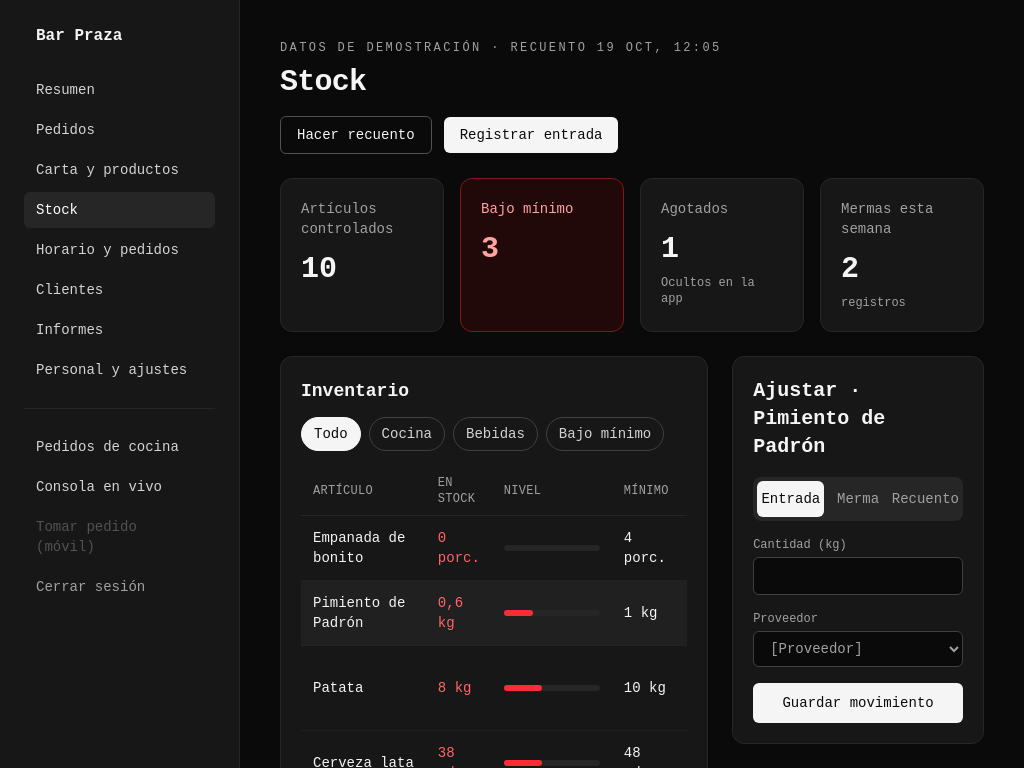
StockPage › rejects an empty or invalid amount
Click the button "Guardar movimiento".
click(858, 703)  # box [753, 683, 963, 723]
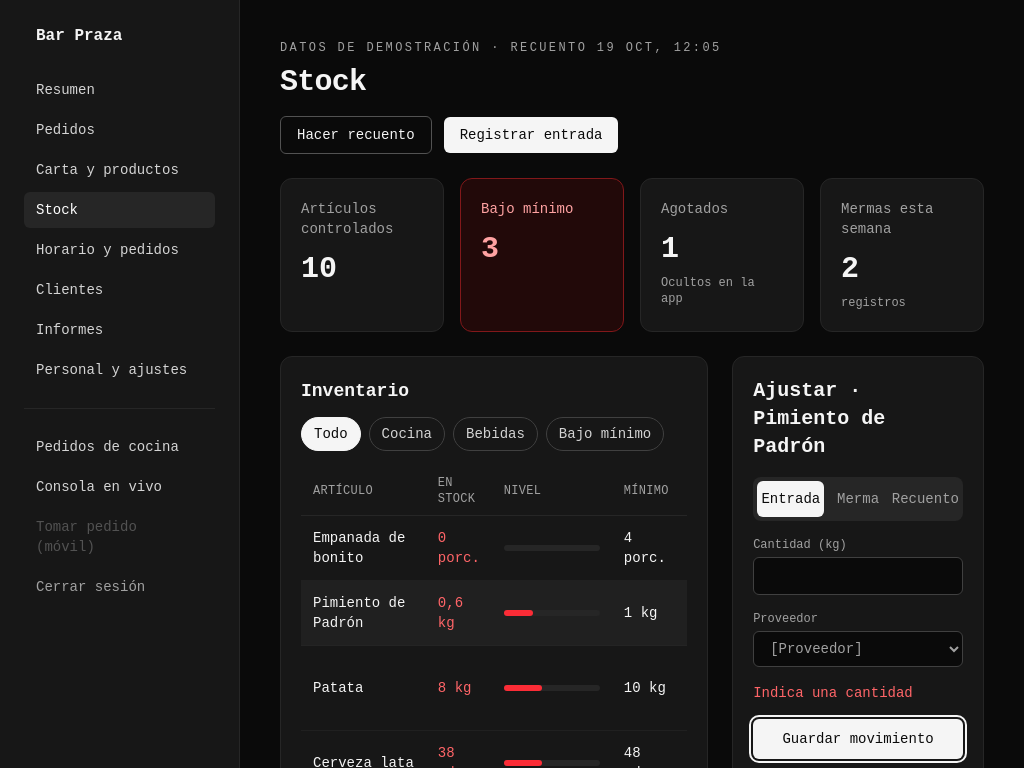
Expected: the message reads "Indica una cantidad", [753, 685, 913, 701]
